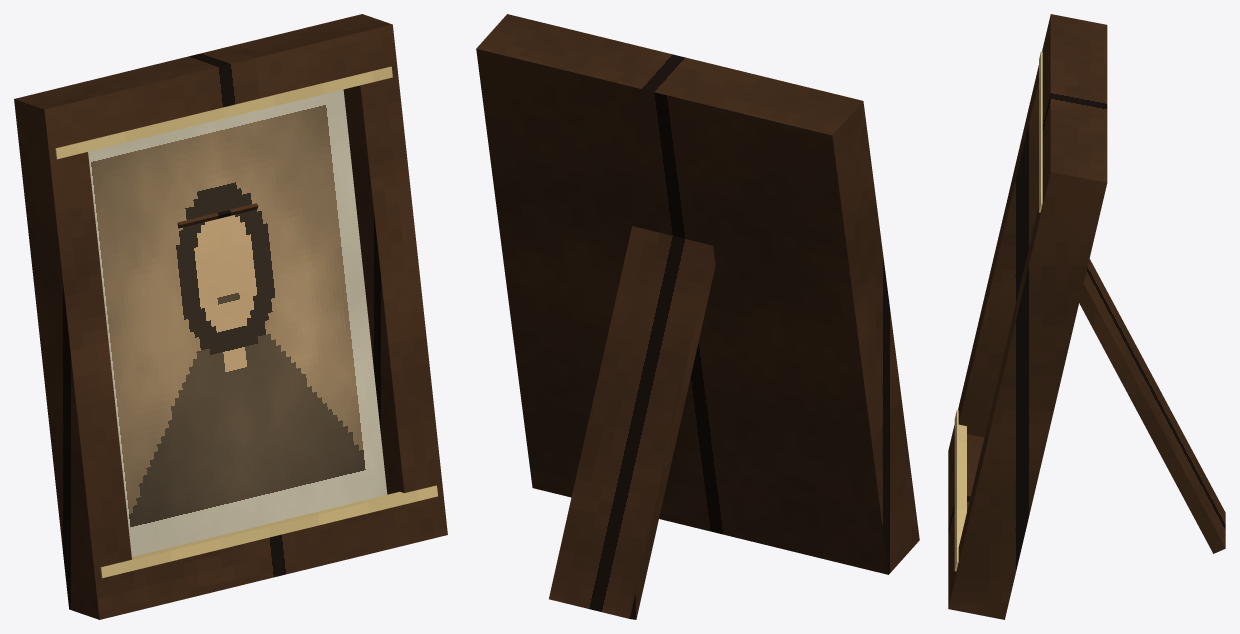
Rendered from item_photo.glb.
The picture shows the model from 3 angles, left to right: view 1: azimuth 30°, elevation 25°; view 2: azimuth 150°, elevation 25°; view 3: azimuth 270°, elevation 25°; orthographic projection. The views are drawn at different scales.
Parts seen in each view (by area): view 1: photo; view 2: photo; view 3: photo.
Boxes of the visible parts, x1,y1,x2,y2 form: photo: [14, 14, 447, 619]; photo: [476, 14, 919, 619]; photo: [948, 14, 1225, 619].
Size of the model in its own units: 0.11 by 0.1454 by 0.0816.
Materials: 3 (3 with a texture image).
